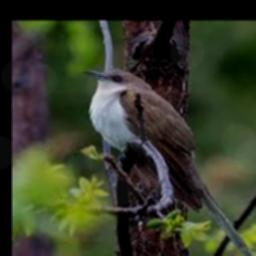Cuckoo: (82, 69, 256, 256)
